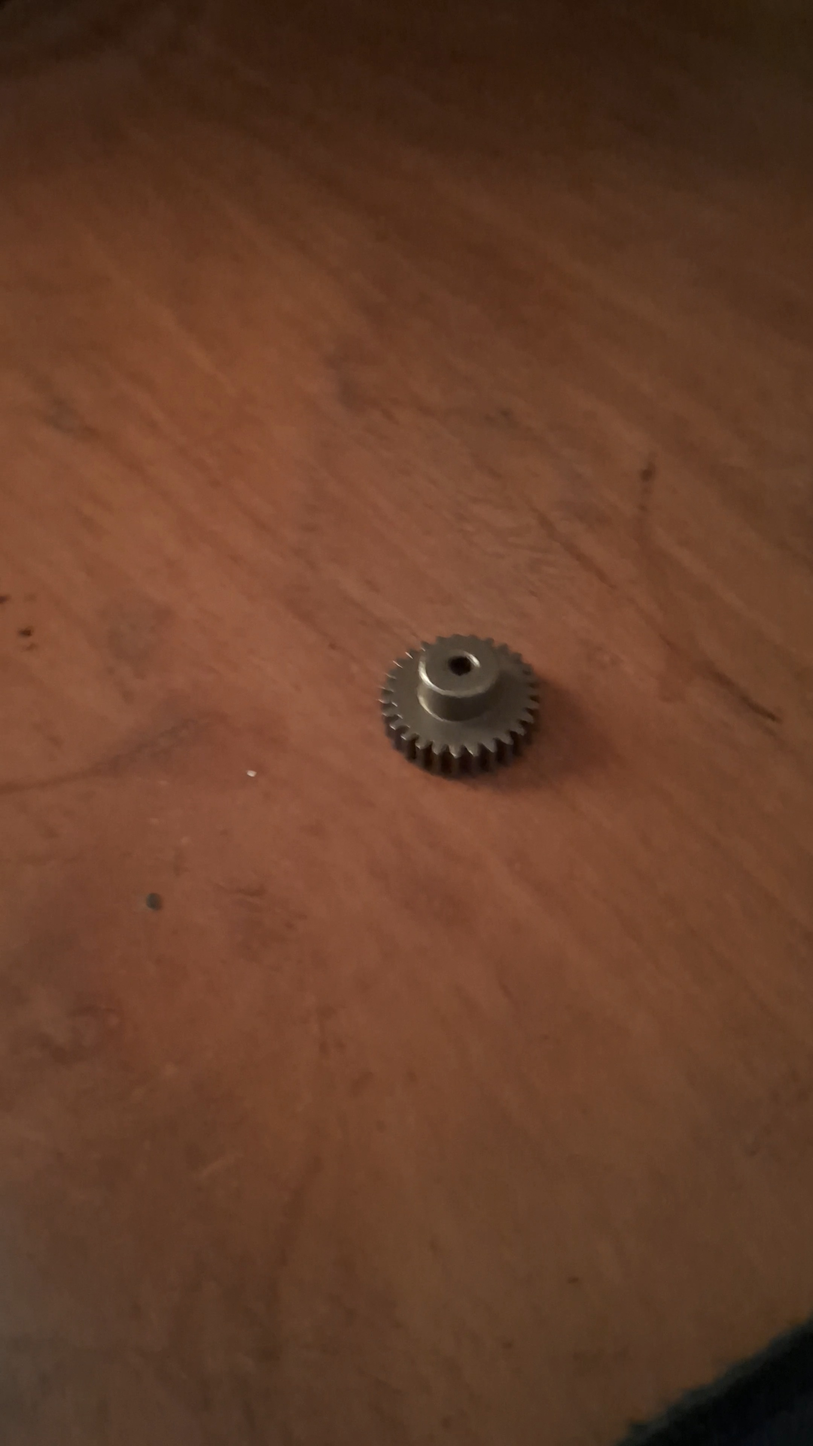spur gear: (381, 636, 538, 776)
